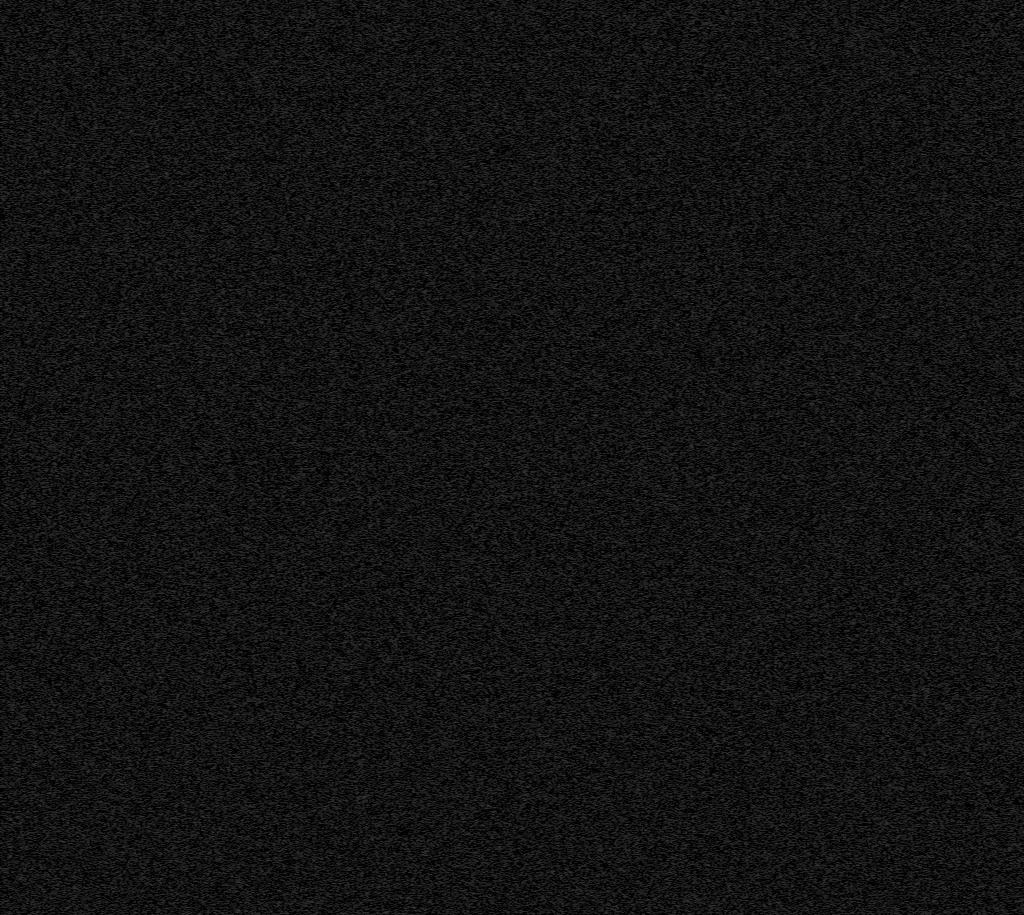wv_am: (648, 0, 688, 915), (427, 0, 431, 420), (426, 662, 431, 915), (426, 627, 431, 656), (426, 540, 431, 564), (426, 480, 431, 503), (426, 599, 431, 620), (426, 511, 431, 532), (426, 569, 431, 589), (427, 451, 431, 474), (426, 437, 431, 448), (426, 422, 431, 432)
wv_cw: (303, 0, 311, 915)
wv_lsb: (470, 11, 485, 915), (121, 115, 126, 179), (172, 340, 177, 401), (172, 737, 177, 795), (172, 224, 177, 275), (172, 505, 177, 547), (121, 369, 126, 408), (121, 744, 126, 782), (121, 796, 126, 832), (121, 11, 126, 47), (173, 610, 177, 652), (172, 796, 177, 828), (172, 674, 177, 706), (173, 124, 177, 163), (173, 548, 177, 586), (121, 58, 126, 86), (172, 312, 177, 339), (121, 697, 125, 730), (121, 836, 125, 868), (121, 88, 126, 113), (172, 872, 177, 897), (173, 62, 177, 92), (172, 276, 177, 300), (173, 93, 177, 122), (173, 829, 177, 858), (172, 713, 177, 736), (173, 24, 177, 52), (172, 427, 177, 448), (172, 203, 177, 223), (121, 622, 126, 642), (172, 484, 177, 504), (172, 451, 177, 470), (172, 655, 177, 673), (172, 898, 177, 915), (121, 658, 125, 679), (121, 280, 125, 301), (173, 589, 177, 609), (172, 410, 177, 426), (173, 183, 177, 202), (173, 164, 177, 182), (121, 180, 125, 197), (121, 443, 125, 458), (121, 222, 125, 237), (121, 783, 126, 795), (172, 859, 177, 871), (121, 872, 125, 885), (121, 896, 125, 908), (122, 680, 125, 696), (121, 465, 125, 477), (121, 731, 125, 743), (173, 471, 177, 483), (121, 358, 126, 367), (121, 48, 126, 57), (121, 565, 125, 576), (121, 500, 125, 511), (121, 431, 125, 442), (121, 322, 125, 333), (173, 13, 177, 23), (121, 544, 125, 554), (121, 533, 125, 543), (121, 258, 125, 268), (121, 577, 125, 586), (121, 886, 125, 895), (121, 521, 125, 530), (121, 203, 125, 212), (122, 302, 125, 313), (121, 611, 125, 619), (121, 489, 125, 497), (121, 422, 125, 430), (121, 413, 125, 421), (173, 54, 177, 61), (121, 645, 125, 652), (121, 591, 125, 598), (121, 243, 125, 250), (173, 304, 177, 311), (121, 602, 126, 607), (172, 707, 177, 712), (121, 558, 125, 564), (121, 481, 125, 487), (122, 339, 125, 347), (121, 315, 125, 321), (122, 271, 125, 279), (121, 251, 125, 257), (121, 459, 125, 464), (121, 213, 126, 217), (173, 404, 177, 409), (122, 514, 125, 519), (122, 910, 125, 914), (122, 238, 125, 242), (122, 198, 125, 202), (122, 653, 125, 656), (122, 409, 125, 412), (122, 351, 125, 354), (122, 334, 125, 337)
wv_wbfm: (805, 0, 834, 915), (0, 0, 28, 915), (316, 0, 341, 915)
